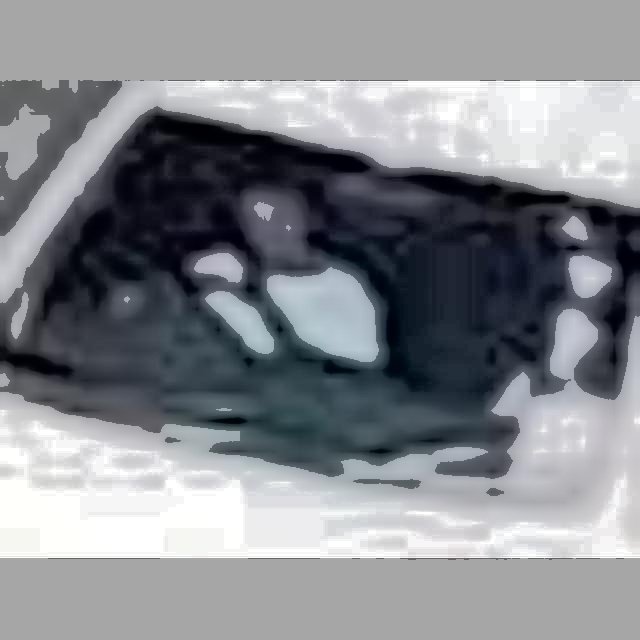pakai: (173, 162, 366, 376)
